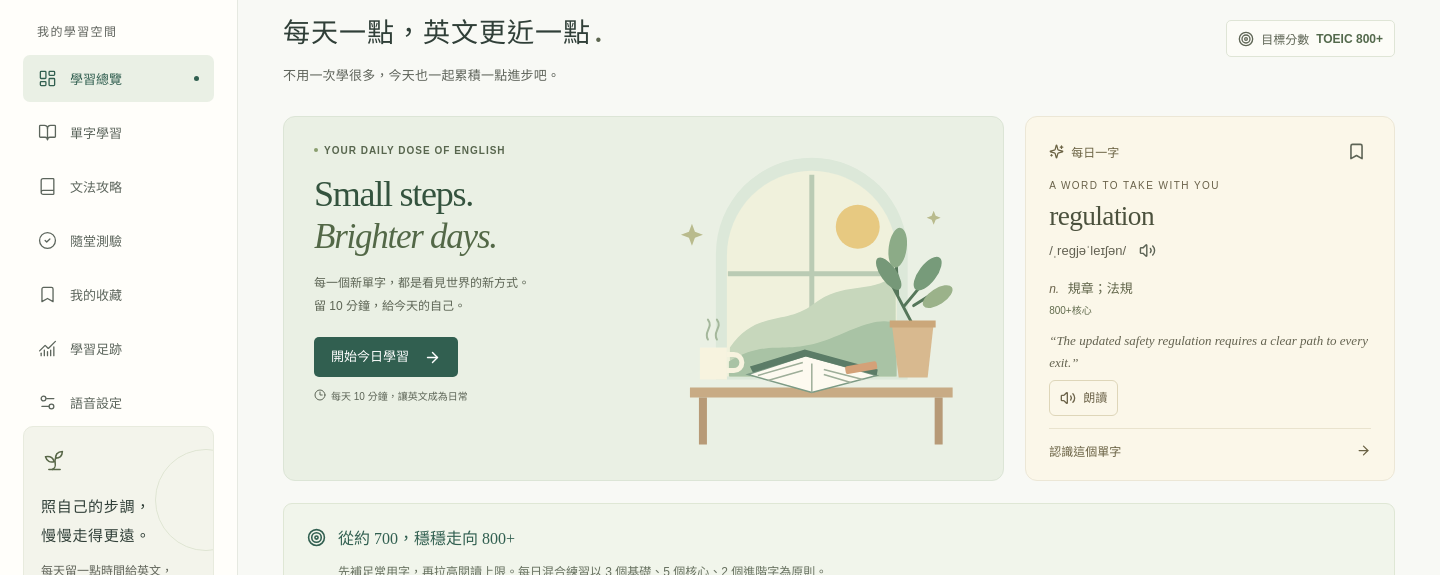
Expanded vocabulary library › loads cards in batches and searches all 480 words, including cards not loaded yet
Click the button "單字學習".
click(118, 132)  # box [23,109,214,156]
(page scrolled)
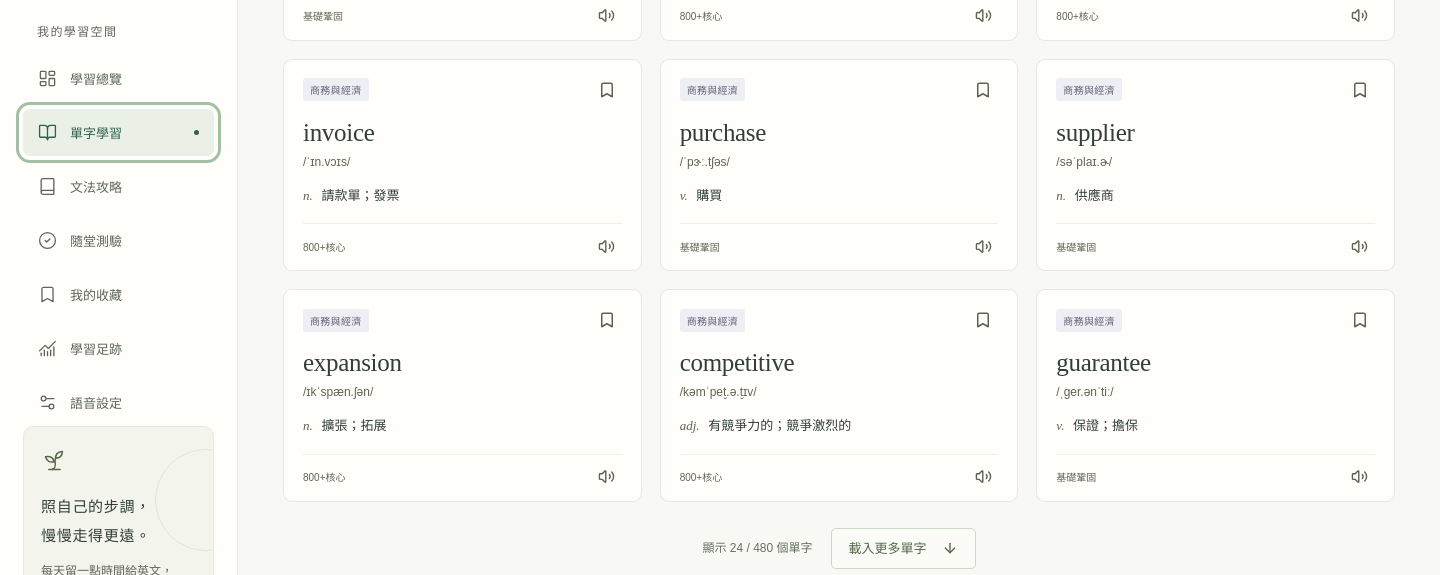
expect the text "顯示 24 / 480 個單字" is shown: met, box [702,537,812,560]
Click the button "載入更多單字".
click(903, 548)  # box [830,528,976,569]
(page scrolled)
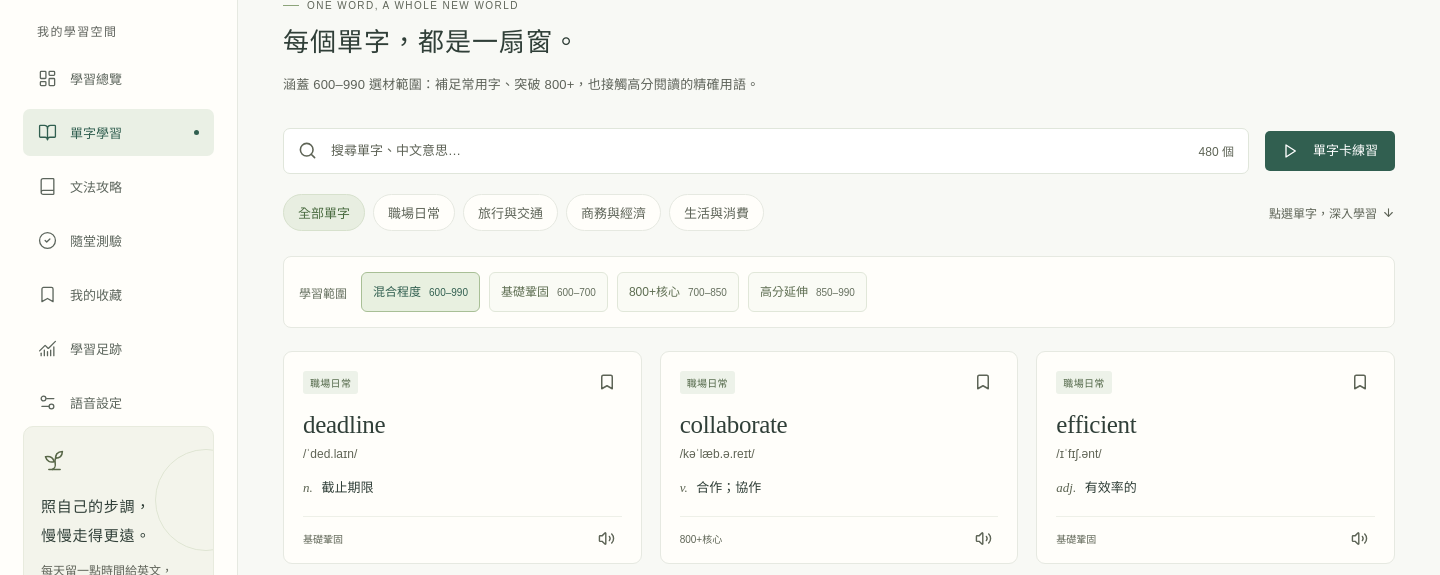
expect the number of elements with class "word-card" is 48: met
Type "disposable" into the field named "搜尋單字或中文意思".
click(758, 151); type("disposable")  # box [329,129,1187,173]
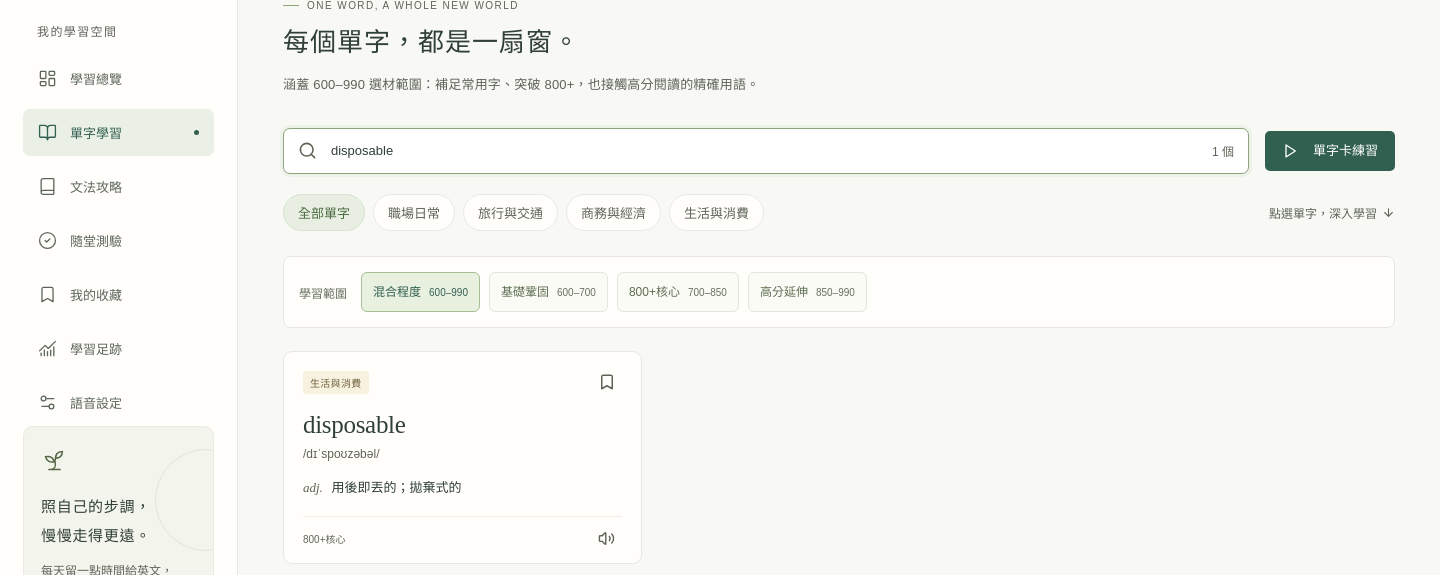
expect the button "載入更多單字" is not shown: met
expect the heading "disposable" is shown: met, box [303,411,406,438]
Clear the field named "搜尋單字或中文意思" at (764,151), box [329,129,1200,173]
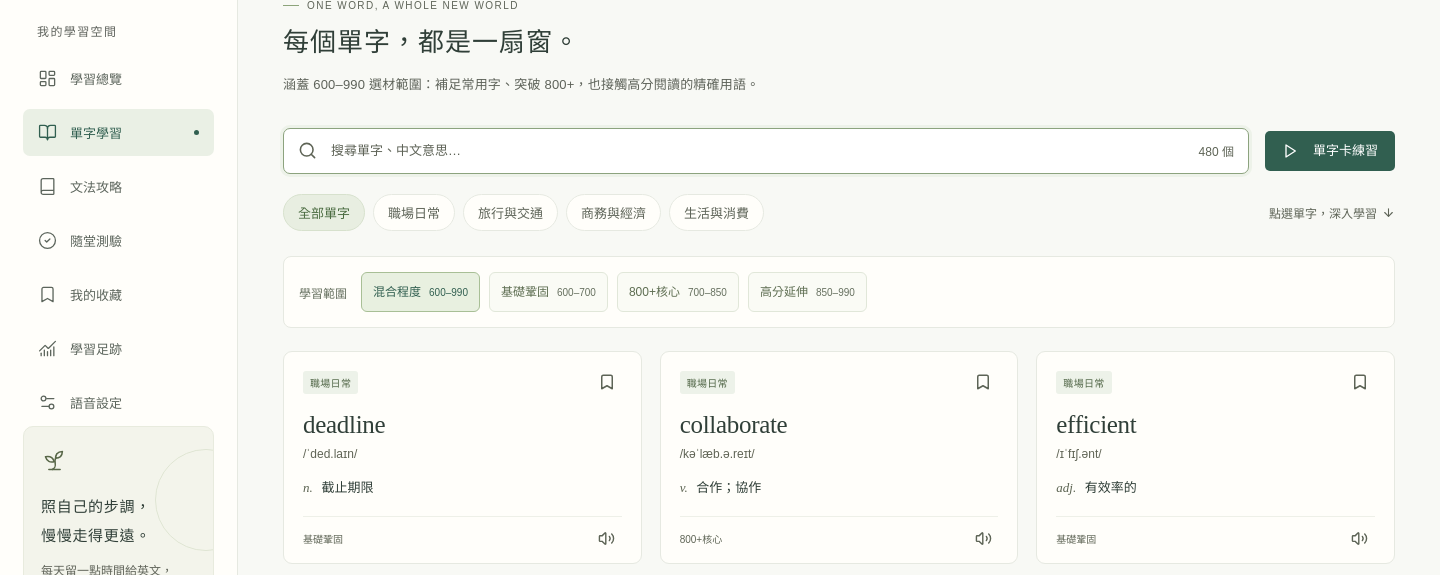
expect the number of elements with class "word-card" is 24: met
Click the button "旅行與交通".
click(510, 212)  # box [463,194,558,231]
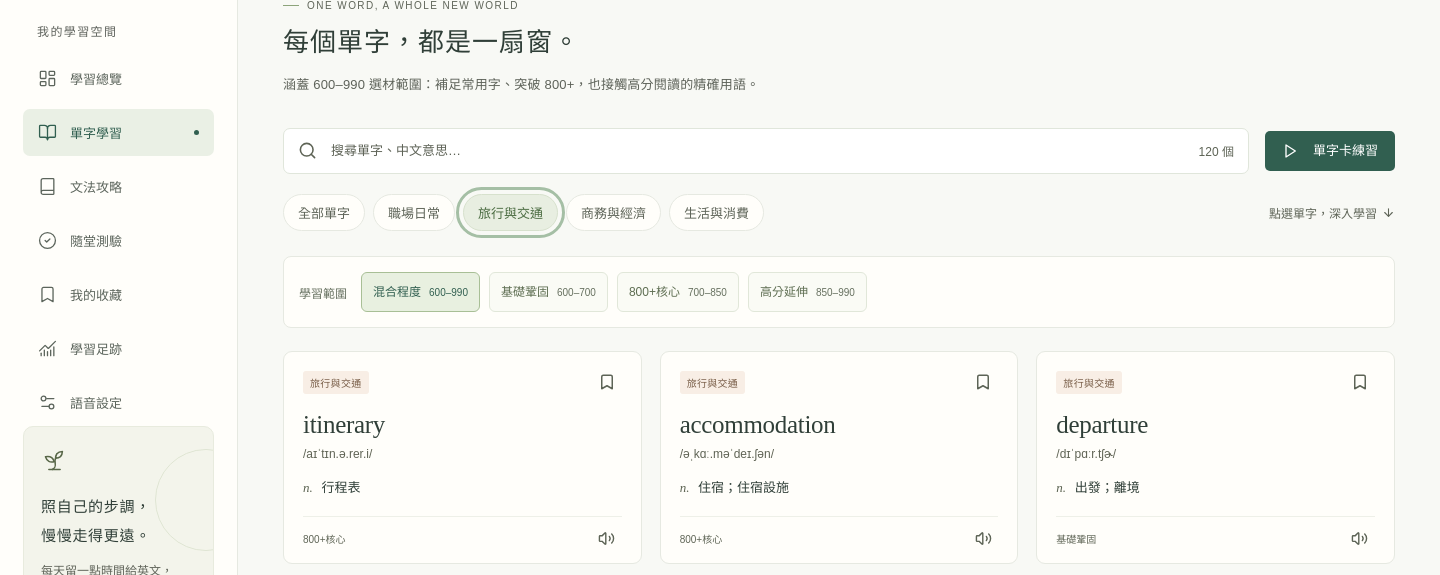
Type "disposable" into the field named "搜尋單字或中文意思".
click(758, 151); type("disposable")  # box [329,129,1187,173]
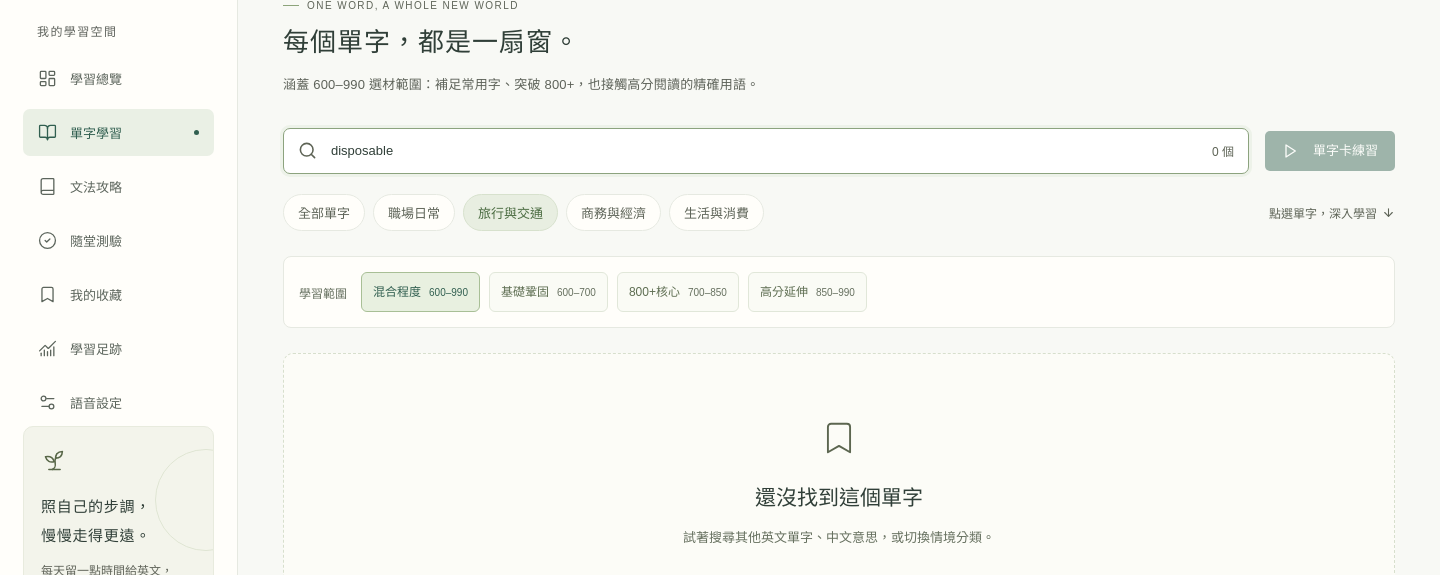
expect the heading "還沒找到這個單字" is shown: met, box [755,486,923,510]
